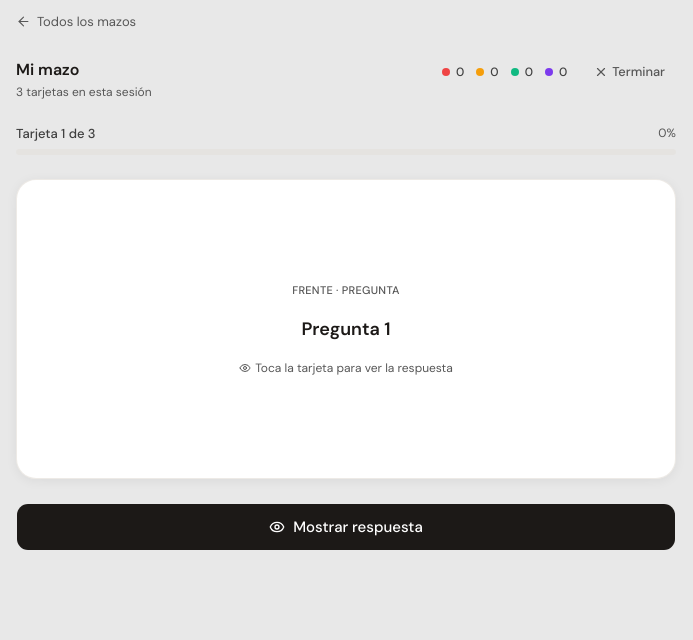
FlashcardPlayer › flips with the show-answer button and reveals the rating buttons
What coordinates should you click on to do the following:
click the button "Mostrar respuesta"
I would click on:
 (346, 527)
Its box is [16,503,676,551].
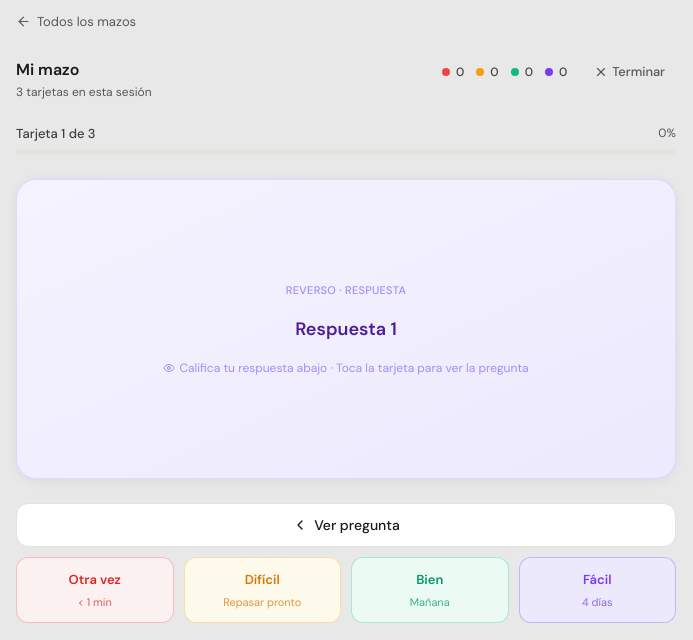
Expected: the button with test id "rate-again" is shown, [16,557,174,623]
Expected: the button with test id "rate-hard" is shown, [184,557,341,623]
Expected: the button with test id "rate-good" is shown, [351,557,508,623]
